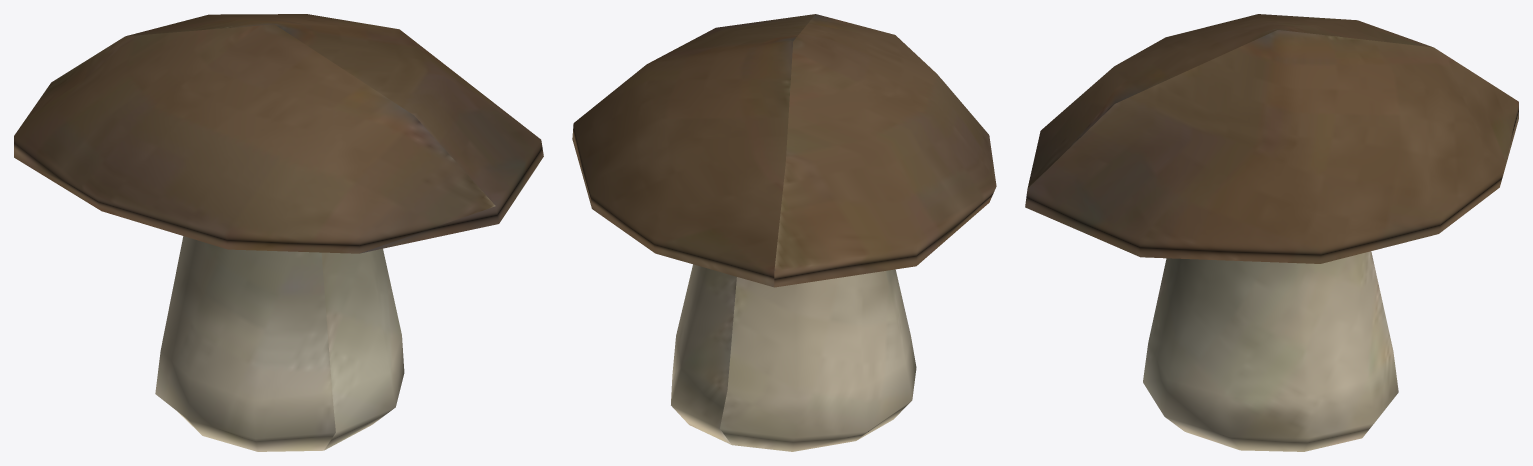
Rendered from compliance-mushroom.glb.
3 views of the same model, side by side, from view 1: azimuth 30°, elevation 25°; view 2: azimuth 150°, elevation 25°; view 3: azimuth 270°, elevation 25° (orthographic). The views are drawn at different scales.
Visible parts, largest first — view 1: compliance-mushroom; view 2: compliance-mushroom; view 3: compliance-mushroom.
Part boxes in pixels (<box>): compliance-mushroom: <box>14,14,543,451</box>; compliance-mushroom: <box>572,14,996,451</box>; compliance-mushroom: <box>1025,14,1518,451</box>.
Bounding box in the file's own units: 0.1873 × 0.1719 × 0.2017.
Materials: 1 (1 with a texture image).
